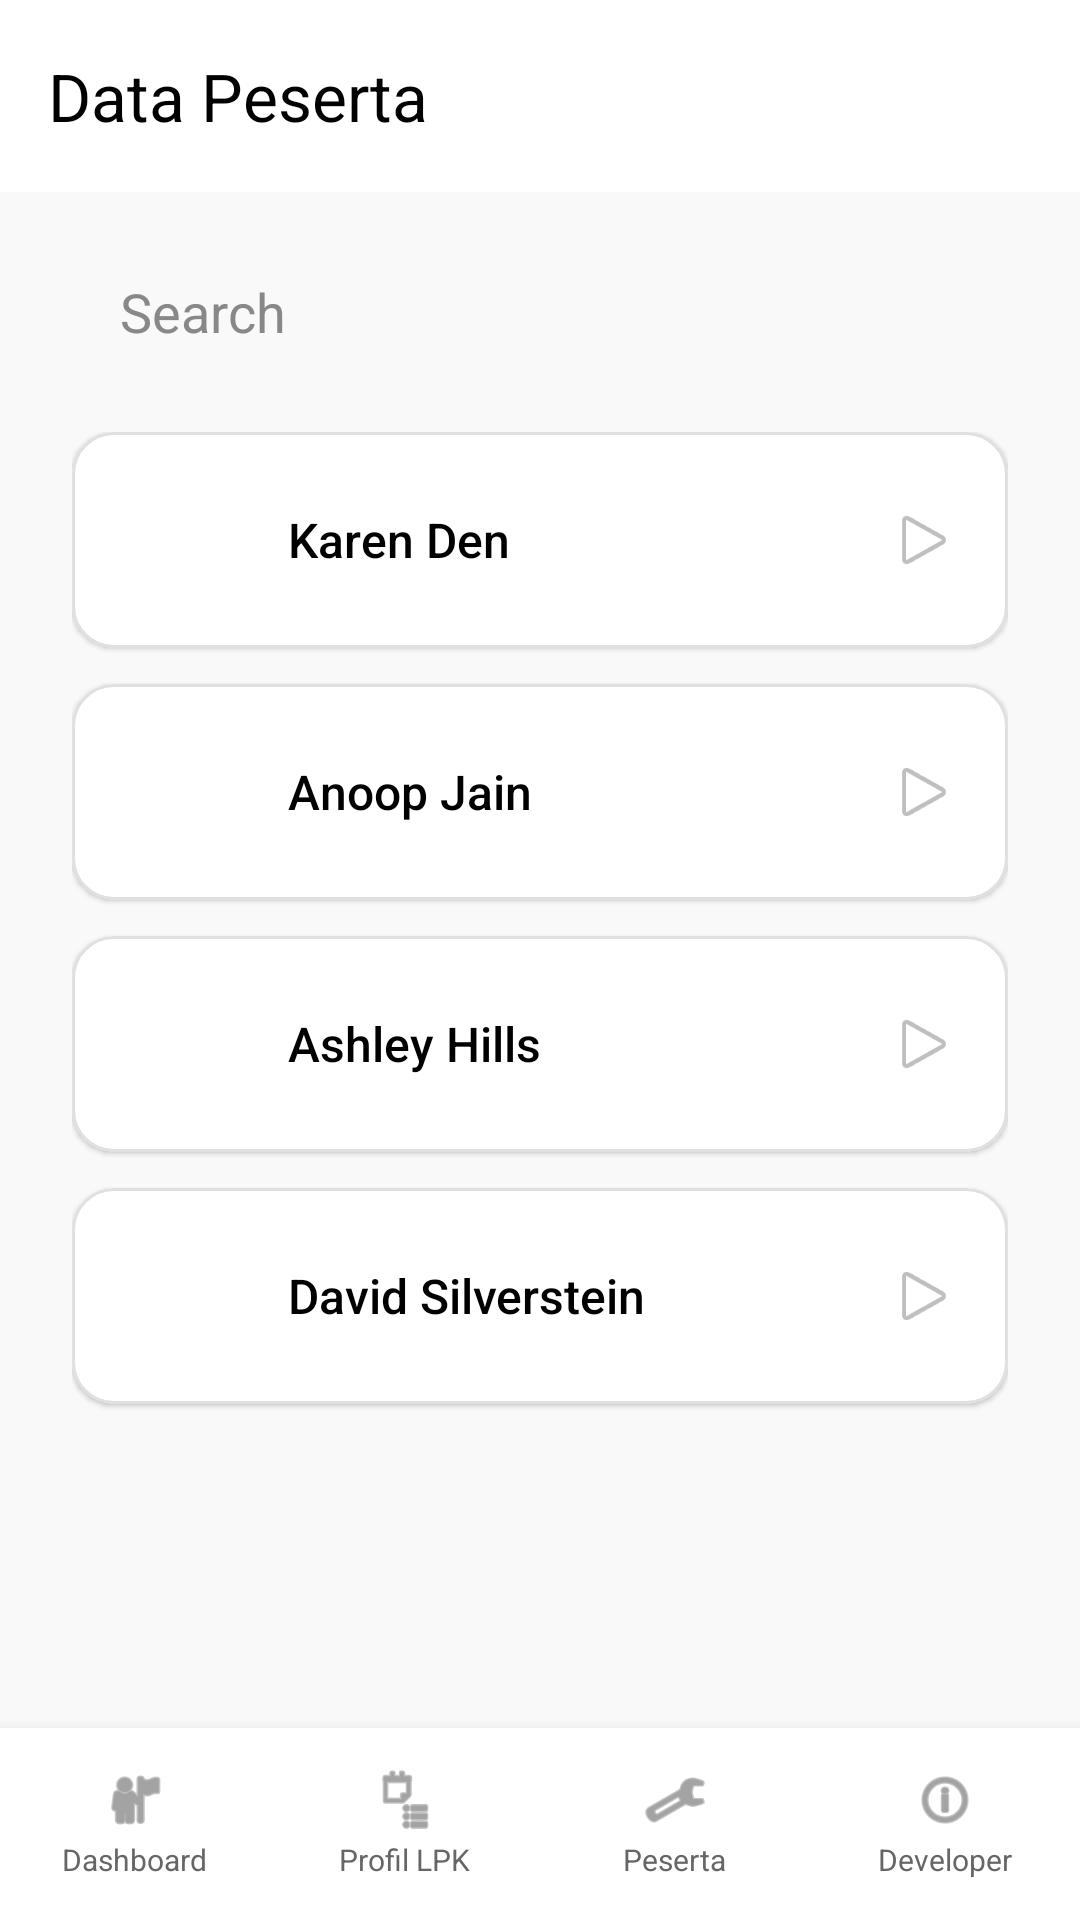

Locate icon controls on the screen. Image size 1080w x 1920h, boxes as bbox=[x1, y1, x2, y2].
Arrow: bbox=[902, 516, 946, 564], bbox=[902, 768, 946, 816], bbox=[902, 1020, 946, 1068], bbox=[902, 1272, 946, 1320]
